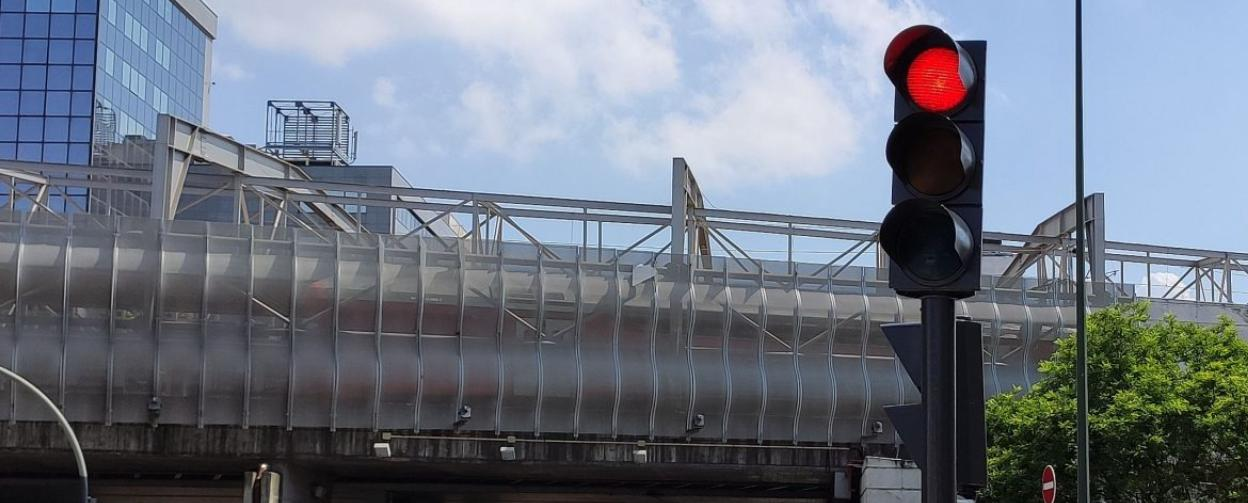red_light: (880, 24, 986, 295)
